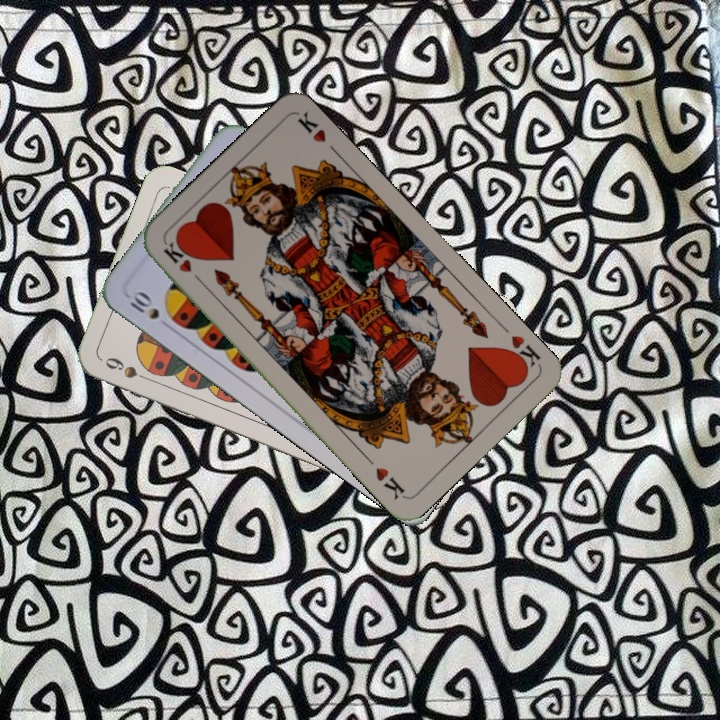HK: (160, 238, 207, 287), (501, 331, 544, 375)
S10: (125, 286, 174, 332)
S9: (100, 353, 156, 385)
